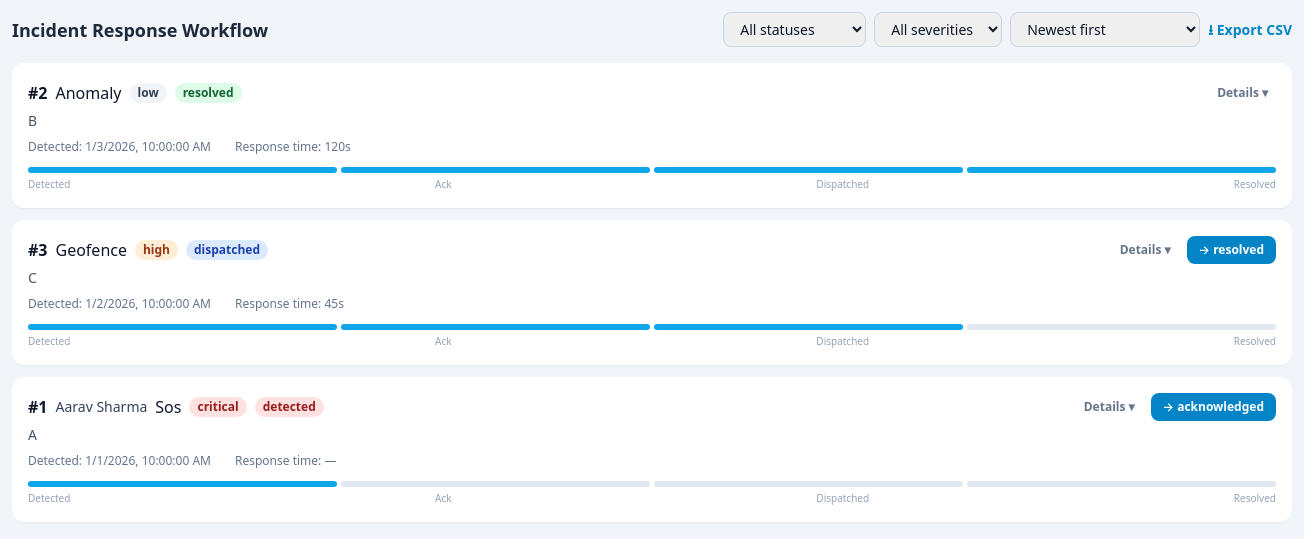
Incidents severity filter and sort › disables CSV export when the visible list is empty
Expected: the text "A" is shown, left=28, top=425, right=37, bottom=444
Select "Medium" in the 2nd dropdown at (938, 30), box left=874, top=12, right=1002, bottom=47
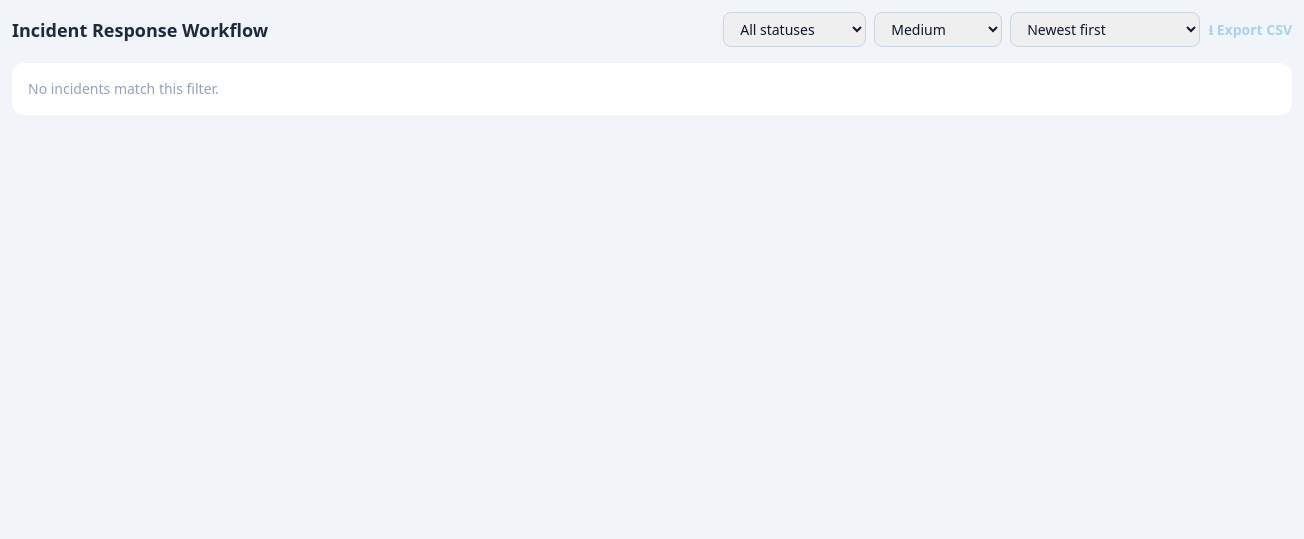
Result: the button "⭳ Export CSV" is disabled at left=1208, top=20, right=1292, bottom=40
